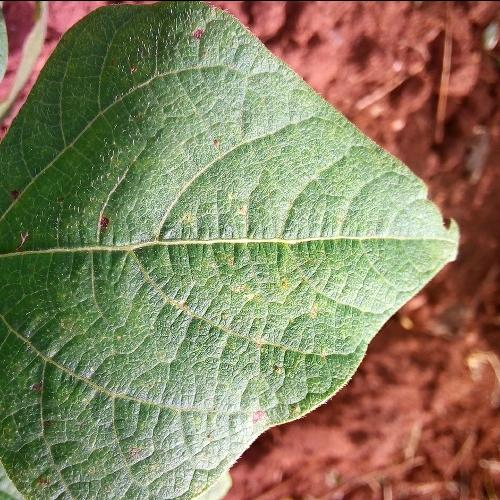sehat: (23, 88, 407, 442)
